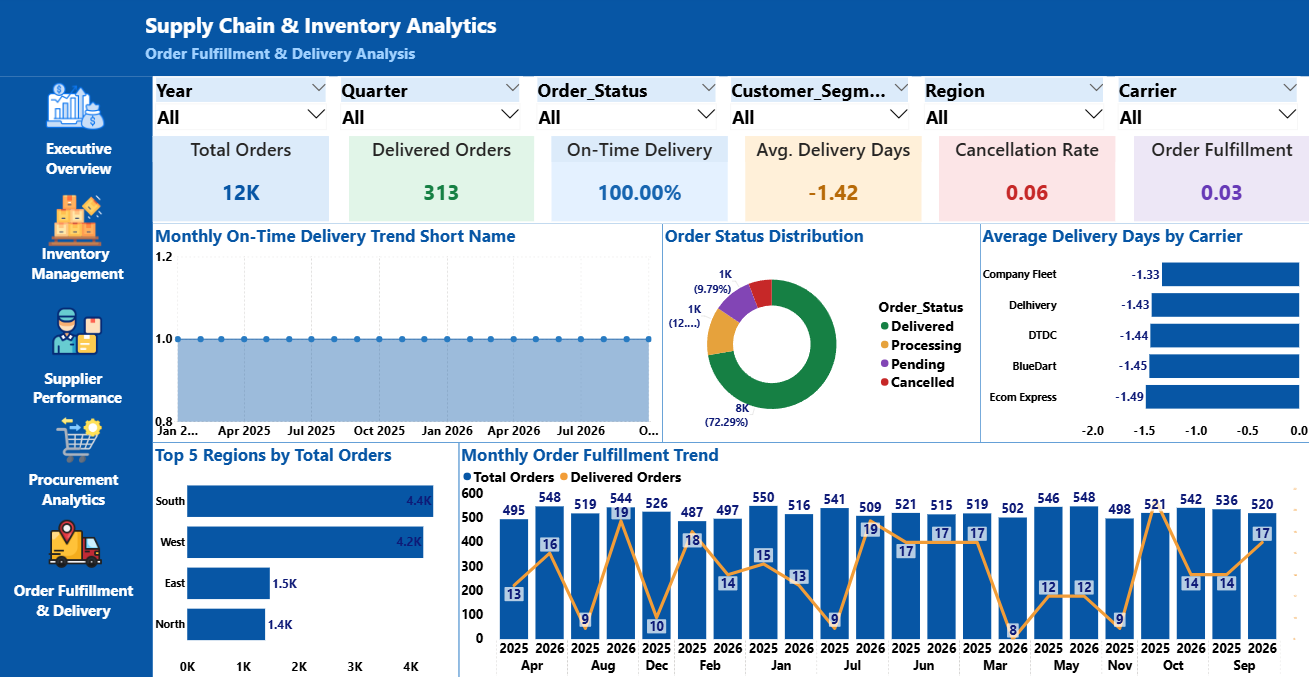

This screenshot's page, from the dashboard's own definition file:
{"tool":"powerbi","page":{"name":"Page 5","canvas":[5000,2600],"ordinal":4},"visuals":[{"type":"textbox","box":[0,0,5001,308.7],"z":0},{"type":"textbox","box":[0,308.7,603.2,2289.1],"z":1000},{"type":"slicer","fields":{"Values":["Dim_Date.Year"]},"box":[603.2,308.7,669.6,228],"z":2000},{"type":"slicer","fields":{"Values":["Dim_Date.Quarter"]},"box":[1306,308.7,702.9,228],"z":3000},{"type":"slicer","fields":{"Values":["Fact_SalesOrders.Order_Status"]},"box":[2051.7,308.7,702.9,228],"z":4000},{"type":"slicer","fields":{"Values":["Dim_Customers.Customer_Segment"]},"box":[2787.8,308.7,698.1,228],"z":5000},{"type":"slicer","fields":{"Values":["Dim_Customers.Region"]},"box":[3523.9,308.7,702.9,228],"z":6000},{"type":"slicer","fields":{"Values":["Fact_Shipments.Carrier"]},"box":[4260.1,308.7,702.9,228],"z":7000},{"type":"cardVisual","title":"Total Orders","fields":{"Data":["Fact_SalesOrders.Total Orders"]},"box":[603.2,536.7,669.6,322.9],"z":8000},{"type":"cardVisual","title":"Delivered Orders","fields":{"Data":["Fact_Shipments.Delivered Orders"]},"box":[1348.8,536.7,702.9,322.9],"z":9000},{"type":"cardVisual","title":"On-Time Delivery","fields":{"Data":["Fact_Shipments.On-Time Delivery %"]},"box":[2118.2,536.7,669.6,322.9],"z":10000},{"type":"cardVisual","title":"Avg. Delivery Days","fields":{"Data":["Fact_Shipments.Average Delivery Days"]},"box":[2854.3,536.7,669.6,322.9],"z":11000},{"type":"cardVisual","title":"Cancellation Rate","fields":{"Data":["Fact_Shipments.Cancellation Rate %"]},"box":[3590.4,536.7,669.6,322.9],"z":12000},{"type":"cardVisual","title":"Order Fulfillment","fields":{"Data":["Fact_Shipments.Order Fulfillment %"]},"box":[4331.3,536.7,669.6,322.9],"z":13000},{"type":"lineChart","title":"Monthly On-Time Delivery Trend Short Name","fields":{"Y":["Fact_Shipments.On-Time Delivery %"],"Category":["Dim_Date.Month_Year.Variation.Date Hierarchy.Year","Dim_Date.Month_Year.Variation.Date Hierarchy.Quarter","Dim_Date.Month_Year.Variation.Date Hierarchy.Month","Dim_Date.Month_Year.Variation.Date Hierarchy.Day"]},"box":[603.2,869.1,1937.7,831.1],"z":14000},{"type":"donutChart","title":"Order Status Distribution","fields":{"Category":["Fact_SalesOrders.Order_Status"],"Y":["Fact_SalesOrders.Total Orders"]},"box":[2540.9,869.1,1206.3,831.1],"z":15000},{"type":"clusteredBarChart","title":"Average Delivery Days by Carrier","fields":{"Category":["Fact_Shipments.Carrier"],"Y":["Fact_Shipments.Average Delivery Days"]},"box":[3747.2,869.1,1253.8,831.1],"z":16000},{"type":"clusteredBarChart","title":"Top 5 Regions by Total Orders","fields":{"Category":["Dim_Customers.Region"],"Y":["Fact_SalesOrders.Total Orders"]},"box":[603.2,1700.2,1163.6,897.6],"z":17000},{"type":"lineStackedColumnComboChart","title":"Monthly Order Fulfillment Trend","fields":{"Y":["Fact_SalesOrders.Total Orders"],"Category":["Dim_Date.Month Short Name","Dim_Date.Month_Year.Variation.Date Hierarchy.Year"],"Y2":["Fact_Shipments.Delivered Orders"]},"box":[1766.7,1700.2,3234.2,897.6],"z":18000},{"type":"image","box":[194.7,308.7,228,228],"z":18001},{"type":"image","box":[194.7,755.1,228,204.2],"z":18002},{"type":"image","box":[194.7,1600.5,256.5,180.5],"z":18003},{"type":"image","box":[185.2,1182.6,261.2,190],"z":18004},{"type":"image","box":[194.7,1980.4,228,209],"z":18005}]}

Visuals, with their boxes on the page's 5000x2600 design canvas (x1, y1, x2, y2). These are canvas units, not pixel positions in the 1309x677 screenshot, which may show the page scaled, cropped or inside an application window:
textbox: 0:0:5001:309
textbox: 0:309:603:2598
slicer - Dim_Date.Year: 603:309:1273:537
slicer - Dim_Date.Quarter: 1306:309:2009:537
slicer - Fact_SalesOrders.Order_Status: 2052:309:2755:537
slicer - Dim_Customers.Customer_Segment: 2788:309:3486:537
slicer - Dim_Customers.Region: 3524:309:4227:537
slicer - Fact_Shipments.Carrier: 4260:309:4963:537
"Total Orders" cardVisual: 603:537:1273:860
"Delivered Orders" cardVisual: 1349:537:2052:860
"On-Time Delivery" cardVisual: 2118:537:2788:860
"Avg. Delivery Days" cardVisual: 2854:537:3524:860
"Cancellation Rate" cardVisual: 3590:537:4260:860
"Order Fulfillment" cardVisual: 4331:537:5001:860
"Monthly On-Time Delivery Trend Short Name" lineChart: 603:869:2541:1700
"Order Status Distribution" donutChart: 2541:869:3747:1700
"Average Delivery Days by Carrier" clusteredBarChart: 3747:869:5001:1700
"Top 5 Regions by Total Orders" clusteredBarChart: 603:1700:1767:2598
"Monthly Order Fulfillment Trend" lineStackedColumnComboChart: 1767:1700:5001:2598
image: 195:309:423:537
image: 195:755:423:959
image: 195:1600:451:1781
image: 185:1183:446:1373
image: 195:1980:423:2189
